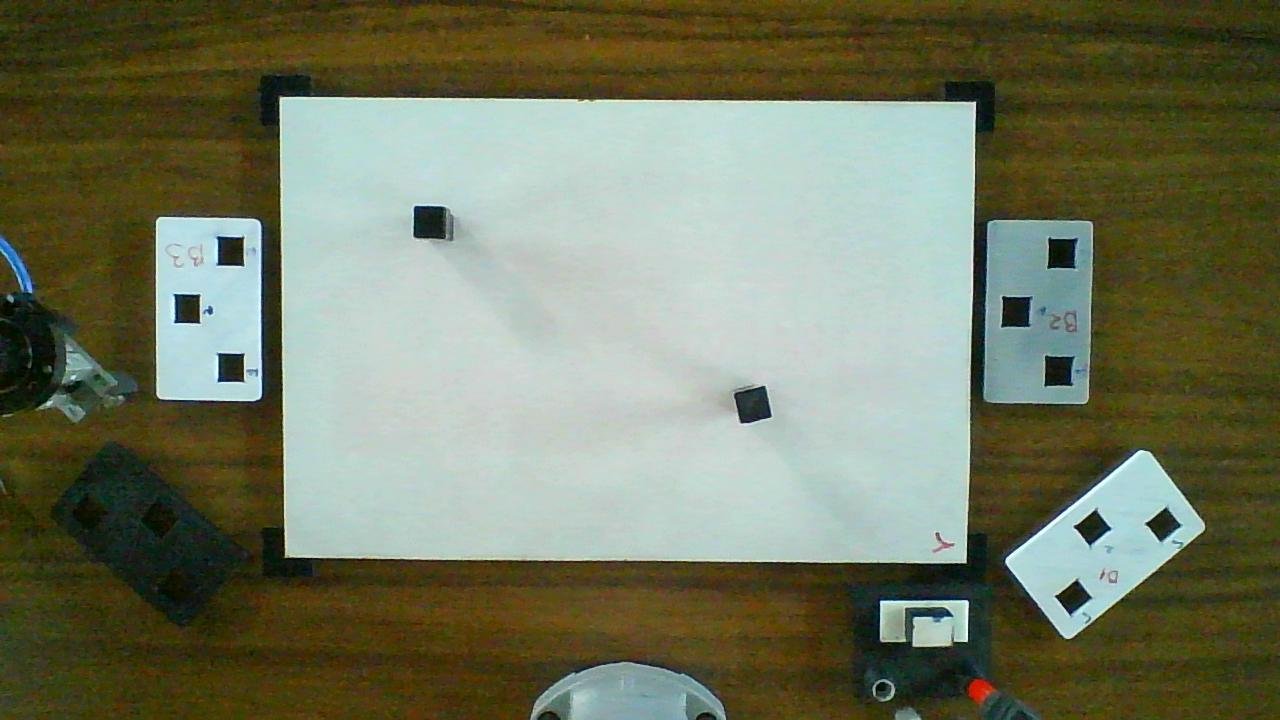peca_preta: (735, 387, 771, 423), (415, 206, 445, 238)
